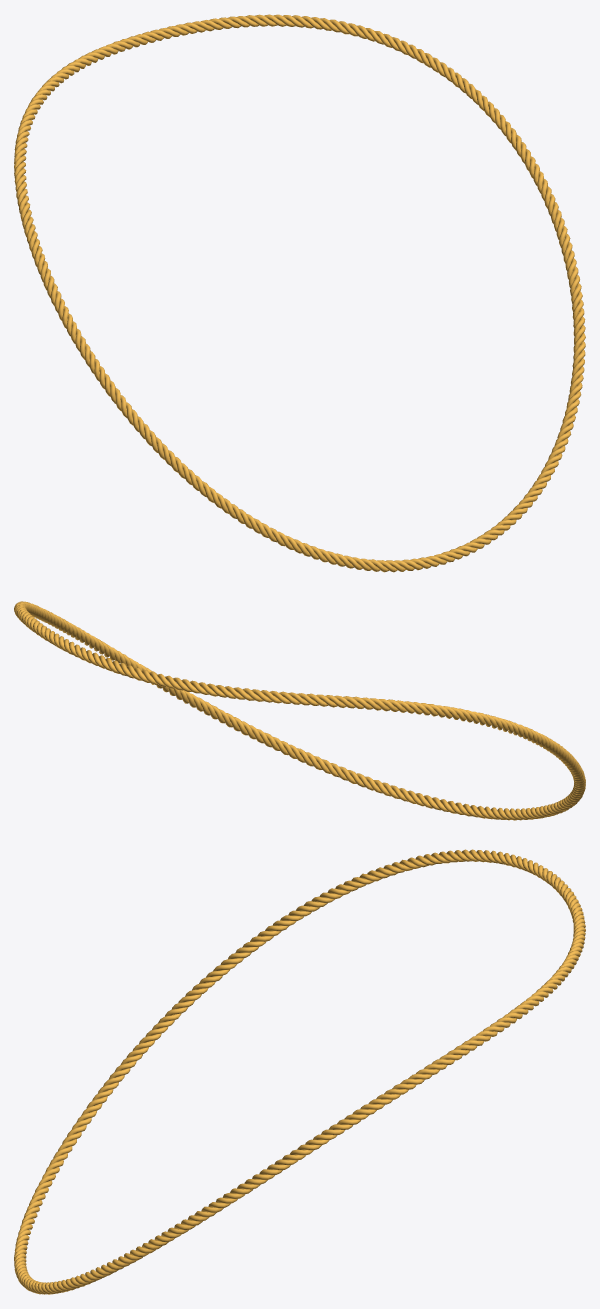
The model's file is gold-necklace.glb.
3 renders of one model, top to bottom at view 1: azimuth 30°, elevation 25°; view 2: azimuth 150°, elevation 25°; view 3: azimuth 270°, elevation 25°, orthographic.
Parts seen in each view (by area): view 1: metal; view 2: metal; view 3: metal.
Part boxes in pixels (<box>): metal: <box>14,14,585,572</box>; metal: <box>14,601,585,820</box>; metal: <box>14,849,585,1294</box>.
Size of the model in its own units: 13.7 by 8.9 by 13.49.
